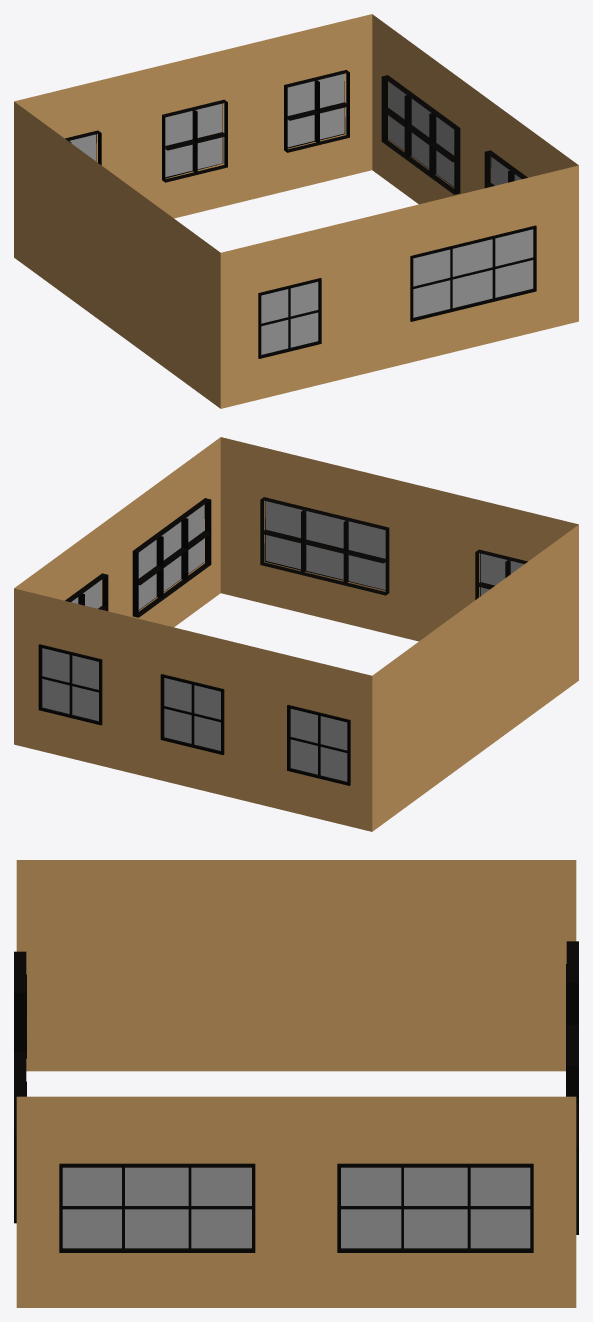
Rendered from Prop_HouseMiddle_01.FBX.
The picture shows the model from 3 angles, top to bottom: view 1: azimuth 30°, elevation 25°; view 2: azimuth 150°, elevation 25°; view 3: azimuth 270°, elevation 25°; orthographic projection. The views are drawn at different scales.
Visible parts, largest first — view 1: Prop_HouseMiddle_01; view 2: Prop_HouseMiddle_01; view 3: Prop_HouseMiddle_01.
Boxes of the visible parts, left/top/right/bottom form: Prop_HouseMiddle_01: left=14, top=14, right=578, bottom=408; Prop_HouseMiddle_01: left=14, top=437, right=578, bottom=831; Prop_HouseMiddle_01: left=14, top=860, right=578, bottom=1307.
Size of the model in its own units: 237 by 98.43 by 238.
